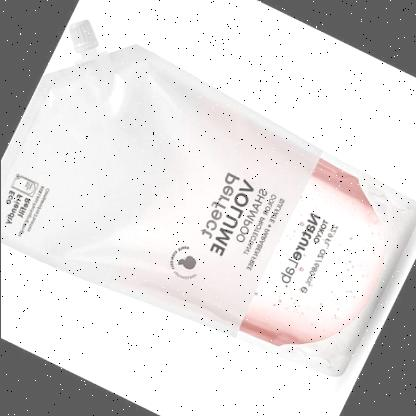Others: (0, 17, 416, 378)
